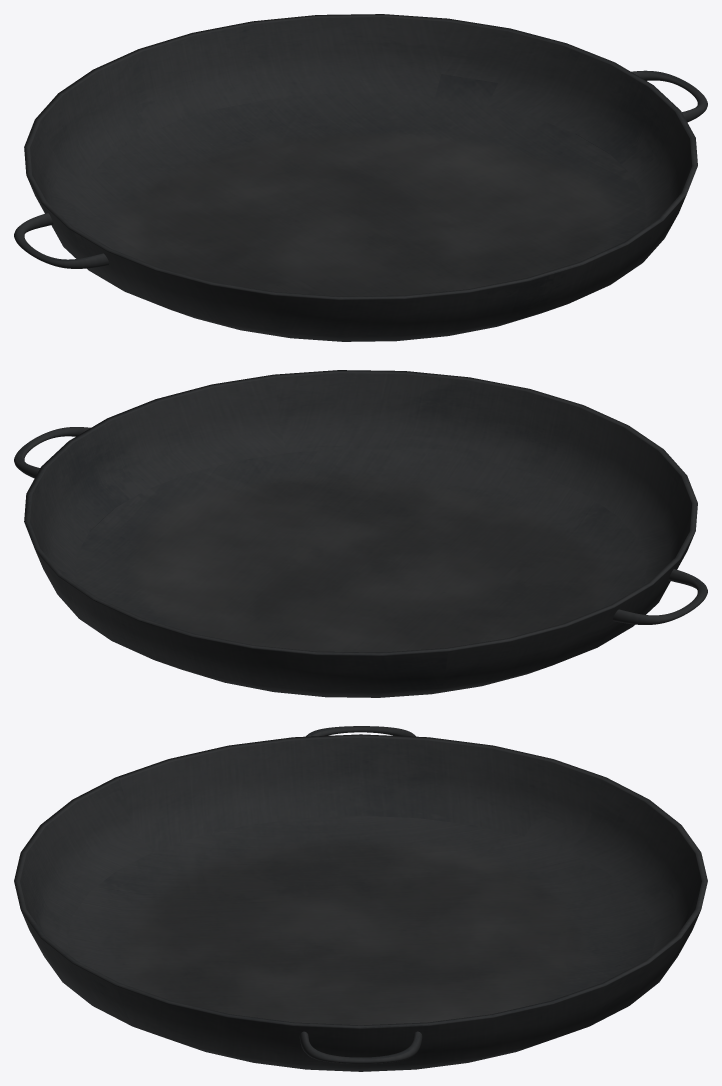
Rendered from PAN.fbx.
3 views of the same model, one above another, from view 1: azimuth 30°, elevation 25°; view 2: azimuth 150°, elevation 25°; view 3: azimuth 270°, elevation 25° (orthographic). The views are drawn at different scales.
Parts seen in each view (by area): view 1: PAN; view 2: PAN; view 3: PAN.
Boxes of the visible parts, left/top/right/bottom form: PAN: left=14, top=14, right=707, bottom=341; PAN: left=14, top=370, right=707, bottom=697; PAN: left=14, top=726, right=707, bottom=1071.
Bounding box in the file's own units: 1.07 × 0.9396 × 0.1396.
